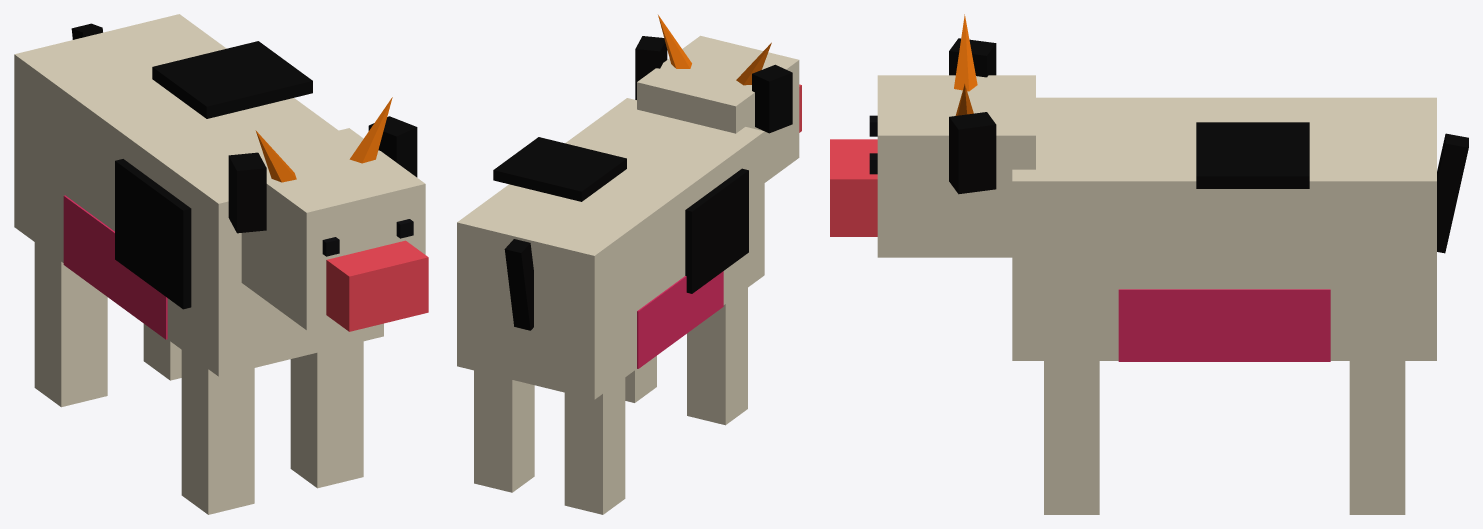
File: cow.obj
3 renders of one model, left to right at view 1: azimuth 30°, elevation 25°; view 2: azimuth 150°, elevation 25°; view 3: azimuth 270°, elevation 25°, orthographic. The views are drawn at different scales.
Visible parts, largest first — view 1: cow; view 2: cow; view 3: cow.
Part boxes in pixels (x1,y1,x2,y2): cow: [14, 14, 428, 514]; cow: [457, 15, 801, 514]; cow: [830, 14, 1468, 514].
Bounding box in the file's own units: 0.81 × 1.66 × 2.26.
